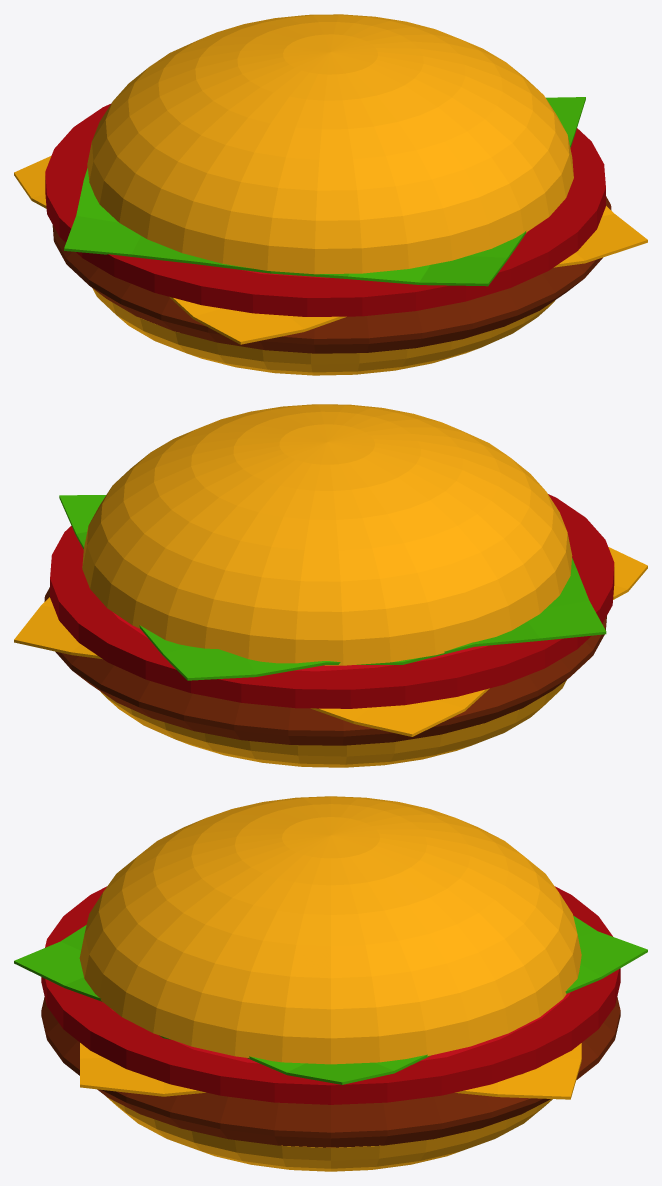
Rendered from Burger.fbx.
The picture shows the model from 3 angles, top to bottom: view 1: azimuth 30°, elevation 25°; view 2: azimuth 150°, elevation 25°; view 3: azimuth 270°, elevation 25°; orthographic projection. The views are drawn at different scales.
Visible parts, largest first — view 1: Sphere, Circle, Cylinder, Plane.001, Sphere.001, Plane; view 2: Sphere, Circle, Cylinder, Plane.001, Sphere.001, Plane; view 3: Sphere, Circle, Cylinder, Sphere.001, Plane.001, Plane.
Part boxes in pixels (x1,y1,x2,y2): Sphere: (87,14,573,274); Circle: (45,104,605,316); Cylinder: (52,196,611,353); Plane.001: (64,97,585,286); Sphere.001: (92,288,555,375); Plane: (14,156,647,344); Sphere: (82,404,572,665); Circle: (50,494,614,708); Cylinder: (44,587,606,745); Plane.001: (59,495,606,680); Sphere.001: (100,680,566,767); Plane: (14,547,647,736); Sphere: (79,796,581,1064); Circle: (41,886,620,1104); Cylinder: (41,997,620,1147); Sphere.001: (106,1096,552,1171); Plane.001: (14,916,647,1084); Plane: (80,1043,581,1099).
Size of the model in its own units: 219 by 106 by 219.
